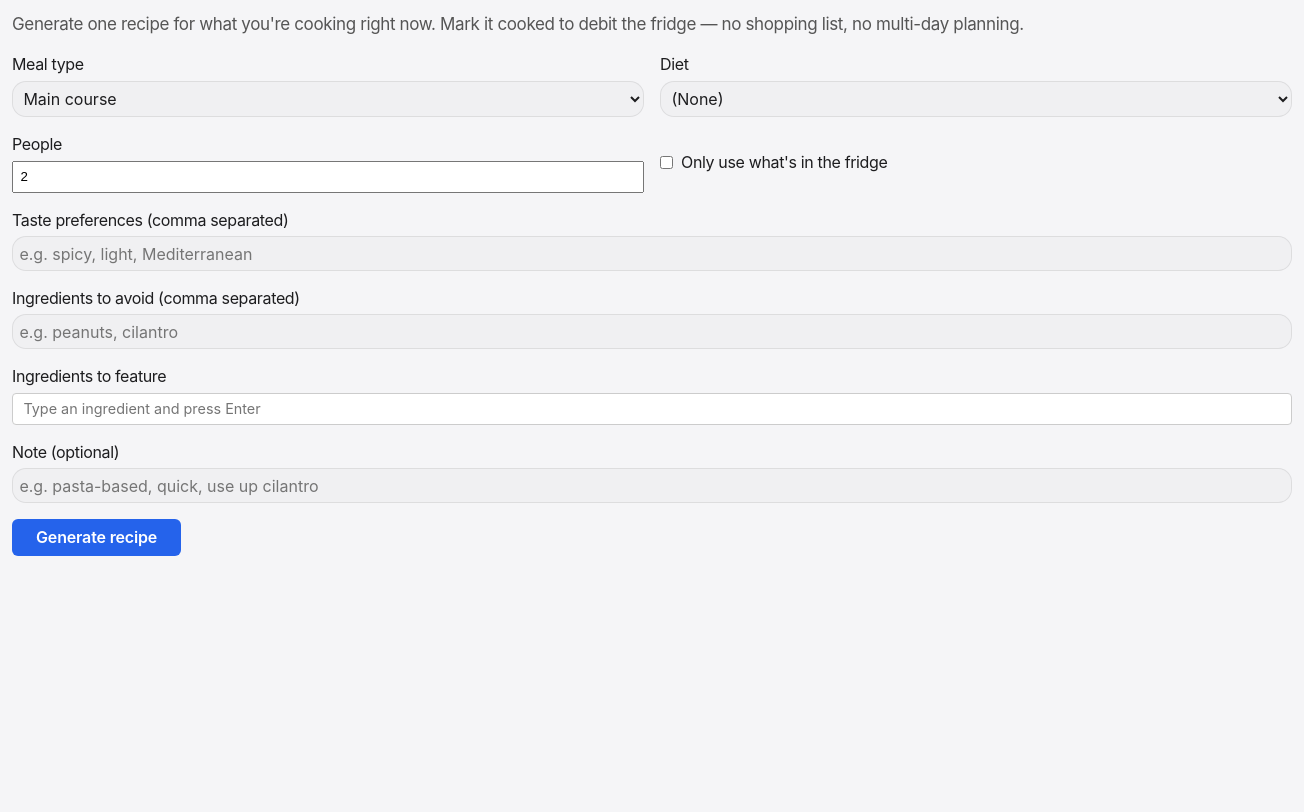
Test: CookNowForm › generates a recipe and displays it
Select "Soup" in the dropdown labelled "Meal type" at (328,99), box [12,80,644,117]
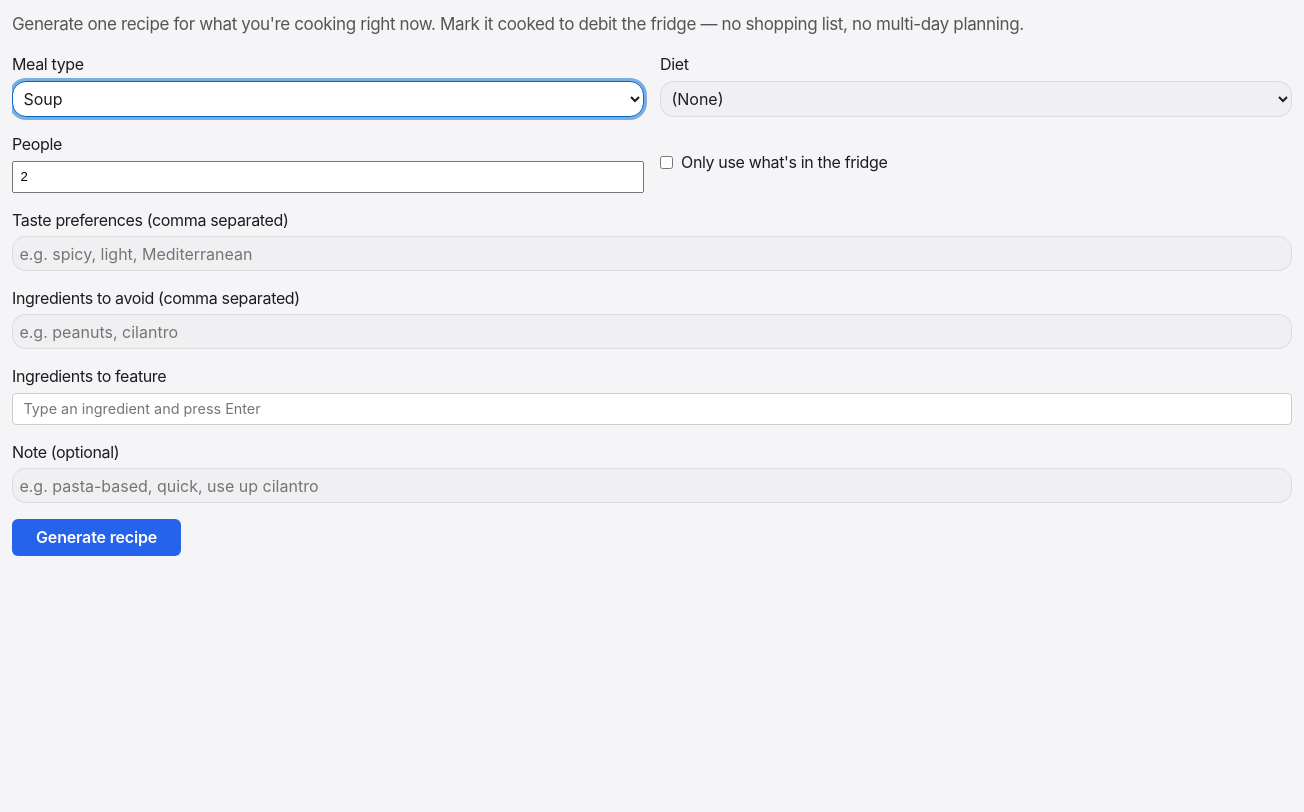
Click the button "Generate recipe".
click(97, 538)  # box [12,519,181,556]
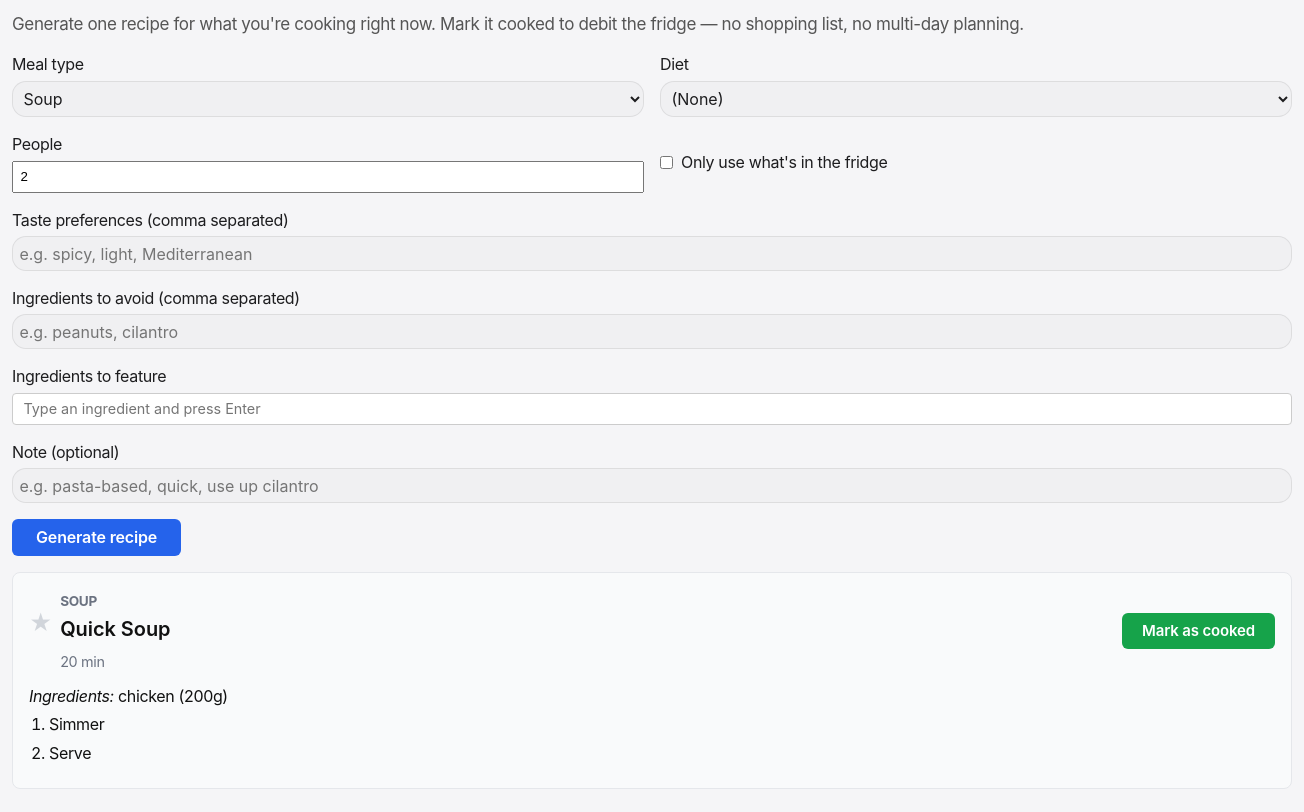
expect the heading "Quick Soup" is shown: met, box [60,617,170,642]
